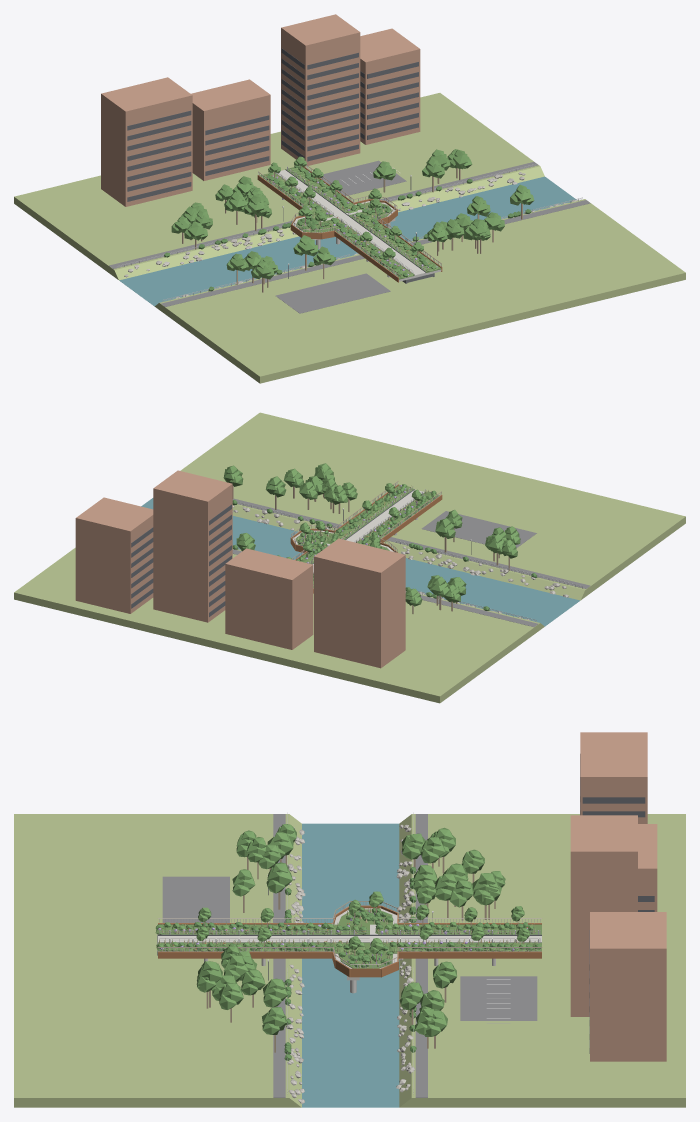
File: clay-planted-green-bridge-clay-v001.glb
The picture shows the model from 3 angles, top to bottom: view 1: azimuth 30°, elevation 25°; view 2: azimuth 150°, elevation 25°; view 3: azimuth 270°, elevation 25°; orthographic projection. The views are drawn at different scales.
Parts seen in each view (by area): view 1: CLAY_GRASS, CLAY_BRICK, CLAY_DARK, CLAY_TREE, CLAY_WATER, CLAY_ASPHALT, CLAY_PLANTING, CLAY_SHRUB, CLAY_RAIL, CLAY_CORTEN, CLAY_PATH, CLAY_ROCK (+1 smaller); view 2: CLAY_GRASS, CLAY_BRICK, CLAY_WATER, CLAY_TREE, CLAY_ASPHALT, CLAY_DARK, CLAY_PLANTING, CLAY_SHRUB, CLAY_RAIL, CLAY_ROCK, CLAY_TIMBER, CLAY_PATH (+1 smaller); view 3: CLAY_GRASS, CLAY_BRICK, CLAY_WATER, CLAY_TREE, CLAY_ASPHALT, CLAY_PLANTING, CLAY_SHRUB, CLAY_RAIL, CLAY_CORTEN, CLAY_ROCK, CLAY_PATH, CLAY_TIMBER (+3 smaller).
Boxes of the visible parts, x1,y1,x2,y2 form: CLAY_GRASS: (14, 93, 685, 383); CLAY_BRICK: (101, 14, 420, 206); CLAY_DARK: (127, 48, 418, 278); CLAY_TREE: (171, 149, 534, 279); CLAY_WATER: (119, 176, 576, 306); CLAY_ASPHALT: (109, 160, 590, 313); CLAY_PLANTING: (260, 166, 441, 279); CLAY_SHRUB: (164, 165, 531, 291); CLAY_RAIL: (116, 164, 582, 302); CLAY_CORTEN: (257, 166, 442, 282); CLAY_PATH: (276, 170, 425, 275); CLAY_ROCK: (124, 172, 578, 298); CLAY_GRASS: (14, 412, 685, 703); CLAY_BRICK: (75, 470, 405, 668); CLAY_WATER: (141, 498, 580, 626); CLAY_TREE: (223, 463, 520, 606); CLAY_ASPHALT: (232, 498, 590, 626); CLAY_DARK: (131, 504, 471, 616); CLAY_PLANTING: (295, 485, 439, 587); CLAY_SHRUB: (232, 490, 537, 610); CLAY_RAIL: (237, 482, 582, 622); CLAY_ROCK: (232, 505, 568, 620); CLAY_TIMBER: (232, 480, 509, 613); CLAY_PATH: (293, 489, 424, 573); CLAY_GRASS: (14, 814, 685, 1107); CLAY_BRICK: (570, 732, 666, 1061); CLAY_WATER: (302, 823, 399, 1107); CLAY_TREE: (157, 824, 533, 1036); CLAY_ASPHALT: (162, 814, 537, 1097); CLAY_PLANTING: (155, 909, 541, 968); CLAY_SHRUB: (155, 867, 540, 1060); CLAY_RAIL: (158, 812, 541, 1093); CLAY_CORTEN: (158, 905, 541, 977); CLAY_ROCK: (286, 824, 414, 1103); CLAY_PATH: (158, 908, 541, 968); CLAY_TIMBER: (157, 855, 542, 1052).
Bounding box in the file's own units: 140 × 40.19 × 140.
